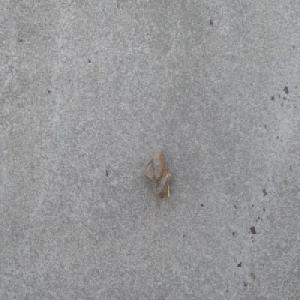Rock: (140, 146, 171, 199)
